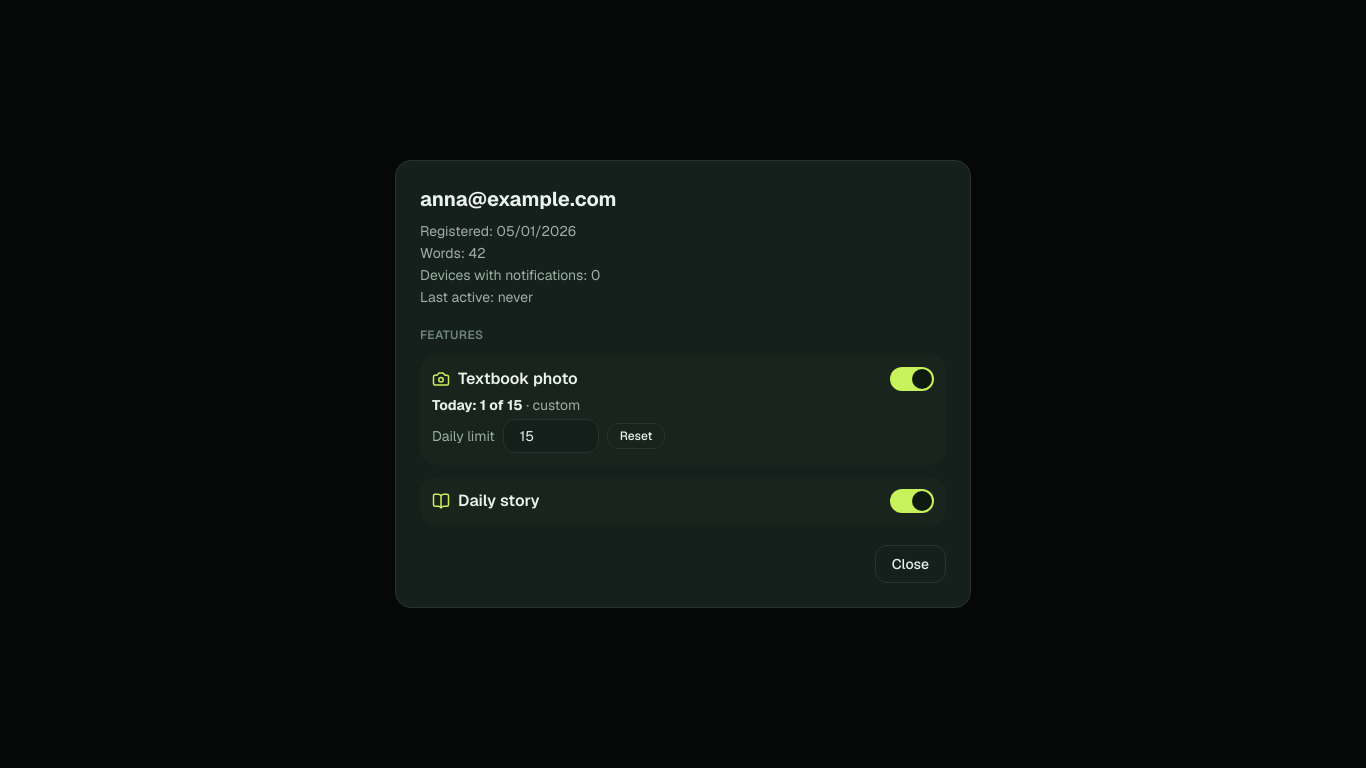
Scenario: AdminUserModal: the effective photo limit › Reset sends null and the row switches back to the default
The image size is (1366, 768).
Click the button "Reset": (636, 436) x1=607 y1=423 x2=665 y2=449
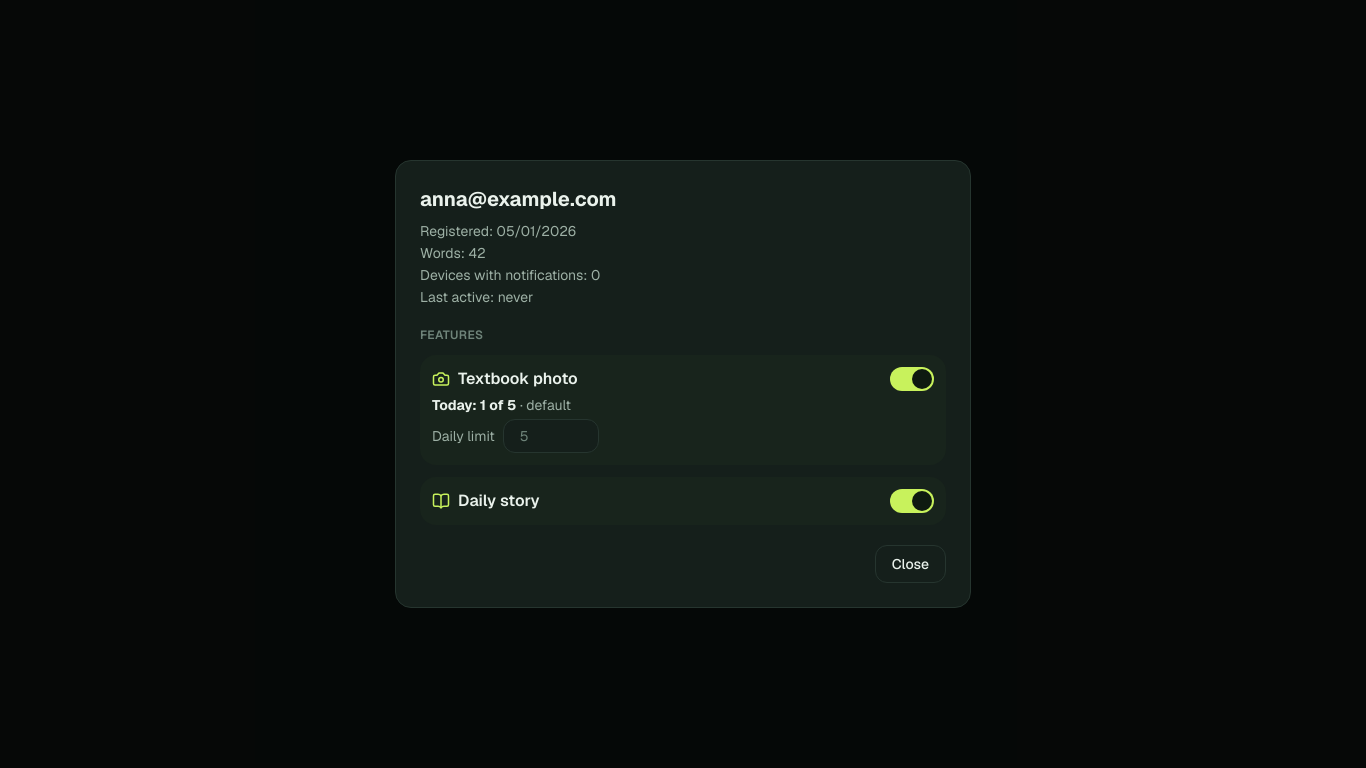
Now the element with test id "usage-photo_import" reads "Today: 1 of 5 · default", box x1=432 y1=396 x2=571 y2=414
Now the number field is empty, box x1=503 y1=419 x2=599 y2=453
Now the button "Reset" is gone
